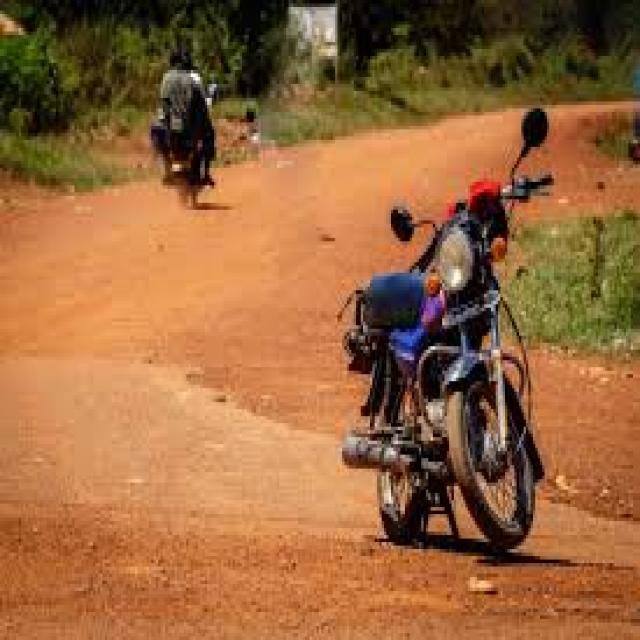bodaboda: (320, 88, 598, 580)
